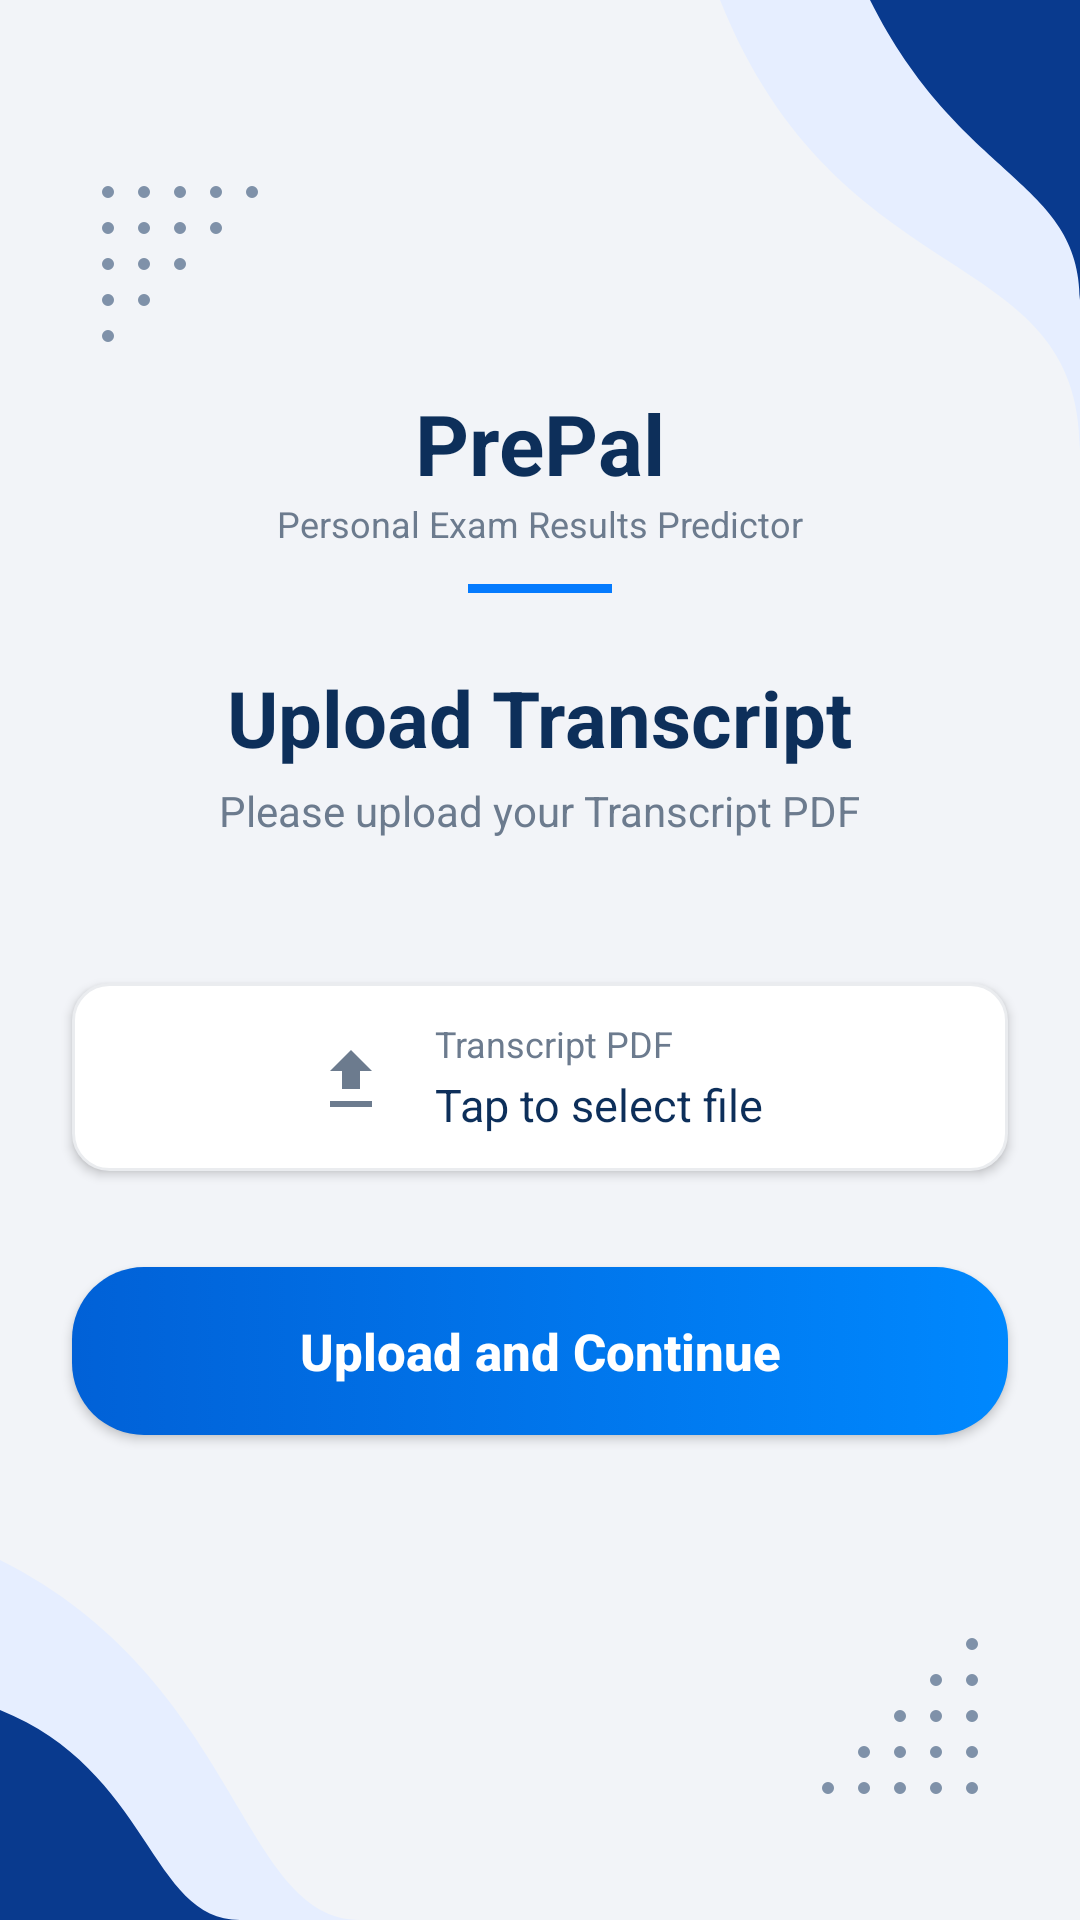

Named icons in this screenshot (1080 x 1920) and their centers, (x,y):
upload: (351,1078)
